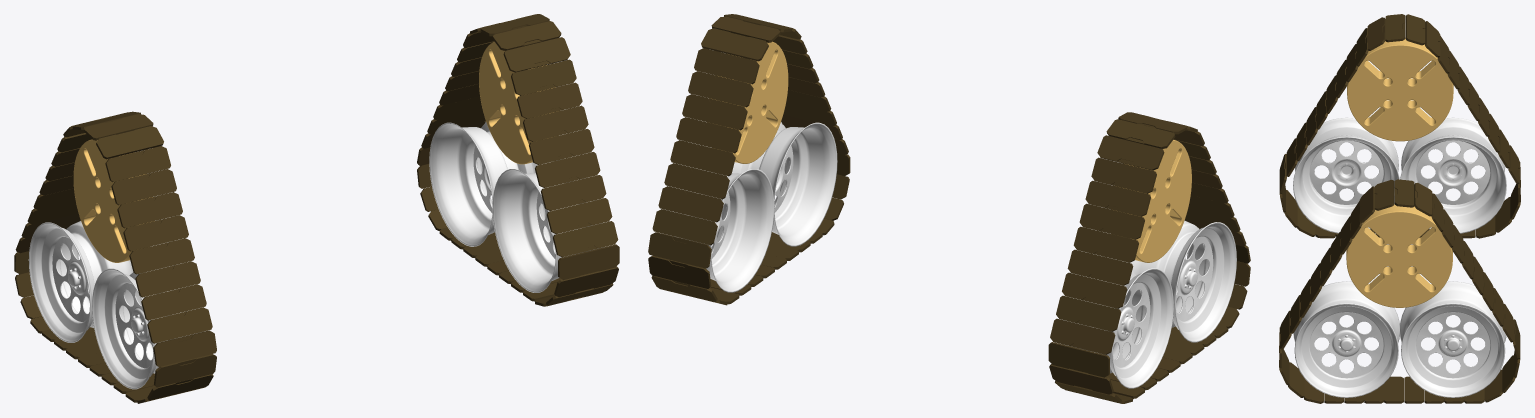
The model's file is Tire_C.fbx.
The picture shows the model from 3 angles, left to right: view 1: azimuth 30°, elevation 25°; view 2: azimuth 150°, elevation 25°; view 3: azimuth 270°, elevation 25°; orthographic projection. The views are drawn at different scales.
Visible parts, largest first — view 1: 輪胎下2-Material.002, 輪胎下1-Material.001, 輪胎下1-Material.002, 輪胎下2-Material.001, 輪胎上.001, 輪胎上, Cube 33.003, Cube 5.002, Cube 6.002, Cube 29.003, Cube 8.002, Cube 32.003 (+25 smaller); view 2: 輪胎下1-Material.002, 輪胎下2-Material.001, 輪胎下2-Material.002, 輪胎下1-Material.001, 輪胎上.001, 輪胎上, Cube 33.002, Cube 5.003, Cube 6.003, Cube 35.002, Cube 32.002, Cube 34.002 (+24 smaller); view 3: 輪胎上, 輪胎下1-Material.002, 輪胎下2-Material.002, 輪胎上.001, 輪胎下1-Material.001, 輪胎下2-Material.001, Cube 2.002, Cube 2.003, Cube 20.002, Cube 3.002, Cube 3.003, Cube 1.003 (+49 smaller).
Boxes of the visible parts, box(x1,y1,x2,y2) form: 輪胎下2-Material.002: box(429, 122, 537, 246); 輪胎下1-Material.001: box(28, 221, 133, 342); 輪胎下1-Material.002: box(492, 158, 604, 292); 輪胎下2-Material.001: box(92, 264, 201, 389); 輪胎上.001: box(73, 139, 154, 262); 輪胎上: box(479, 42, 555, 164); Cube 33.003: box(123, 215, 188, 251); Cube 5.002: box(511, 59, 576, 95); Cube 6.002: box(517, 82, 582, 118); Cube 29.003: box(147, 307, 212, 343); Cube 8.002: box(529, 129, 594, 164); Cube 32.003: box(129, 238, 194, 274); 輪胎下1-Material.002: box(732, 122, 837, 246); 輪胎下2-Material.001: box(1130, 220, 1236, 342); 輪胎下2-Material.002: box(663, 166, 774, 292); 輪胎下1-Material.001: box(1063, 255, 1173, 388); 輪胎上.001: box(1113, 140, 1191, 262); 輪胎上: box(709, 41, 788, 163); Cube 33.002: box(676, 117, 741, 153); Cube 5.003: box(1091, 157, 1156, 193); Cube 6.003: box(1085, 180, 1150, 216); Cube 35.002: box(688, 71, 753, 107); Cube 32.002: box(670, 140, 735, 176); Cube 34.002: box(682, 94, 747, 130); 輪胎上: box(1346, 204, 1452, 307); 輪胎下1-Material.002: box(1293, 281, 1399, 397); 輪胎下2-Material.002: box(1400, 281, 1506, 397); 輪胎上.001: box(1347, 38, 1453, 141); 輪胎下1-Material.001: box(1400, 117, 1506, 233); 輪胎下2-Material.001: box(1293, 117, 1399, 233); Cube 2.002: box(1394, 179, 1414, 207); Cube 2.003: box(1385, 14, 1405, 42); Cube 20.002: box(1384, 376, 1404, 403); Cube 3.002: box(1374, 179, 1393, 210); Cube 3.003: box(1406, 14, 1425, 45); Cube 1.003: box(1367, 17, 1385, 50).
Size of the model in its own units: 163589 by 80592 by 87896.
